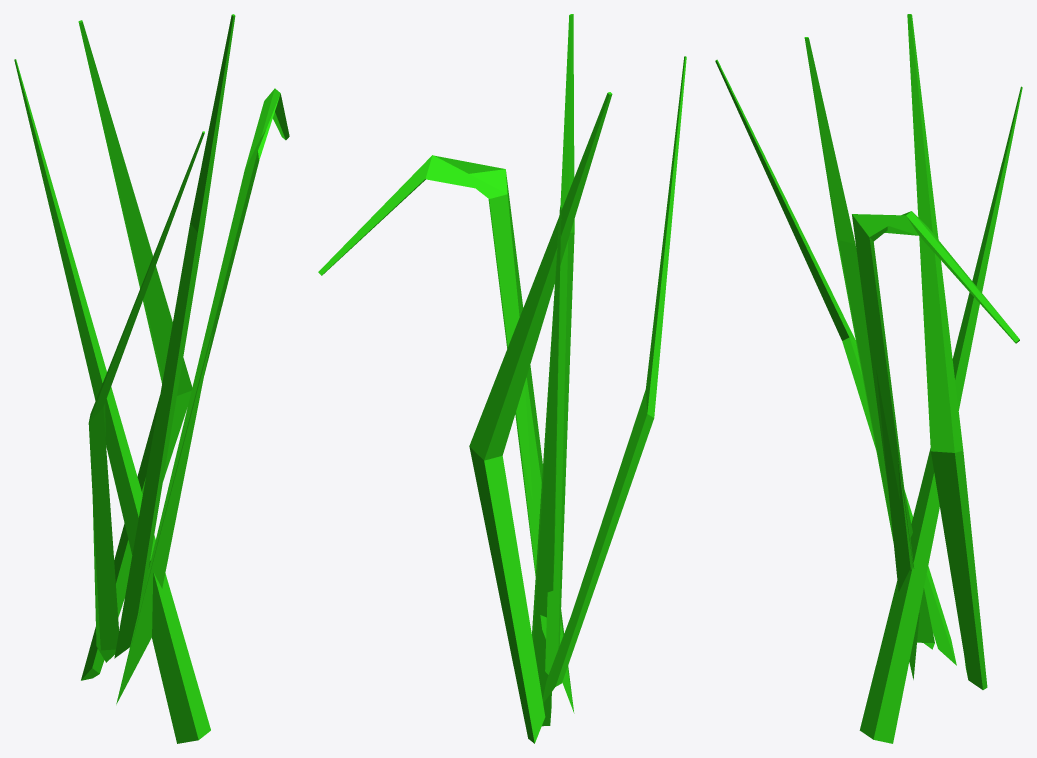
Rendered from folhagrama.fbx.
The picture shows the model from 3 angles, left to right: view 1: azimuth 30°, elevation 25°; view 2: azimuth 150°, elevation 25°; view 3: azimuth 270°, elevation 25°; orthographic projection. The views are drawn at different scales.
Parts seen in each view (by area): view 1: Cube; view 2: Cube; view 3: Cube.
Part boxes in pixels (box(x1,y1,x2,y2)): Cube: box(14, 14, 289, 743); Cube: box(318, 14, 686, 743); Cube: box(715, 14, 1022, 743).
Size of the model in its own units: 28.47 by 71.71 by 28.32.
